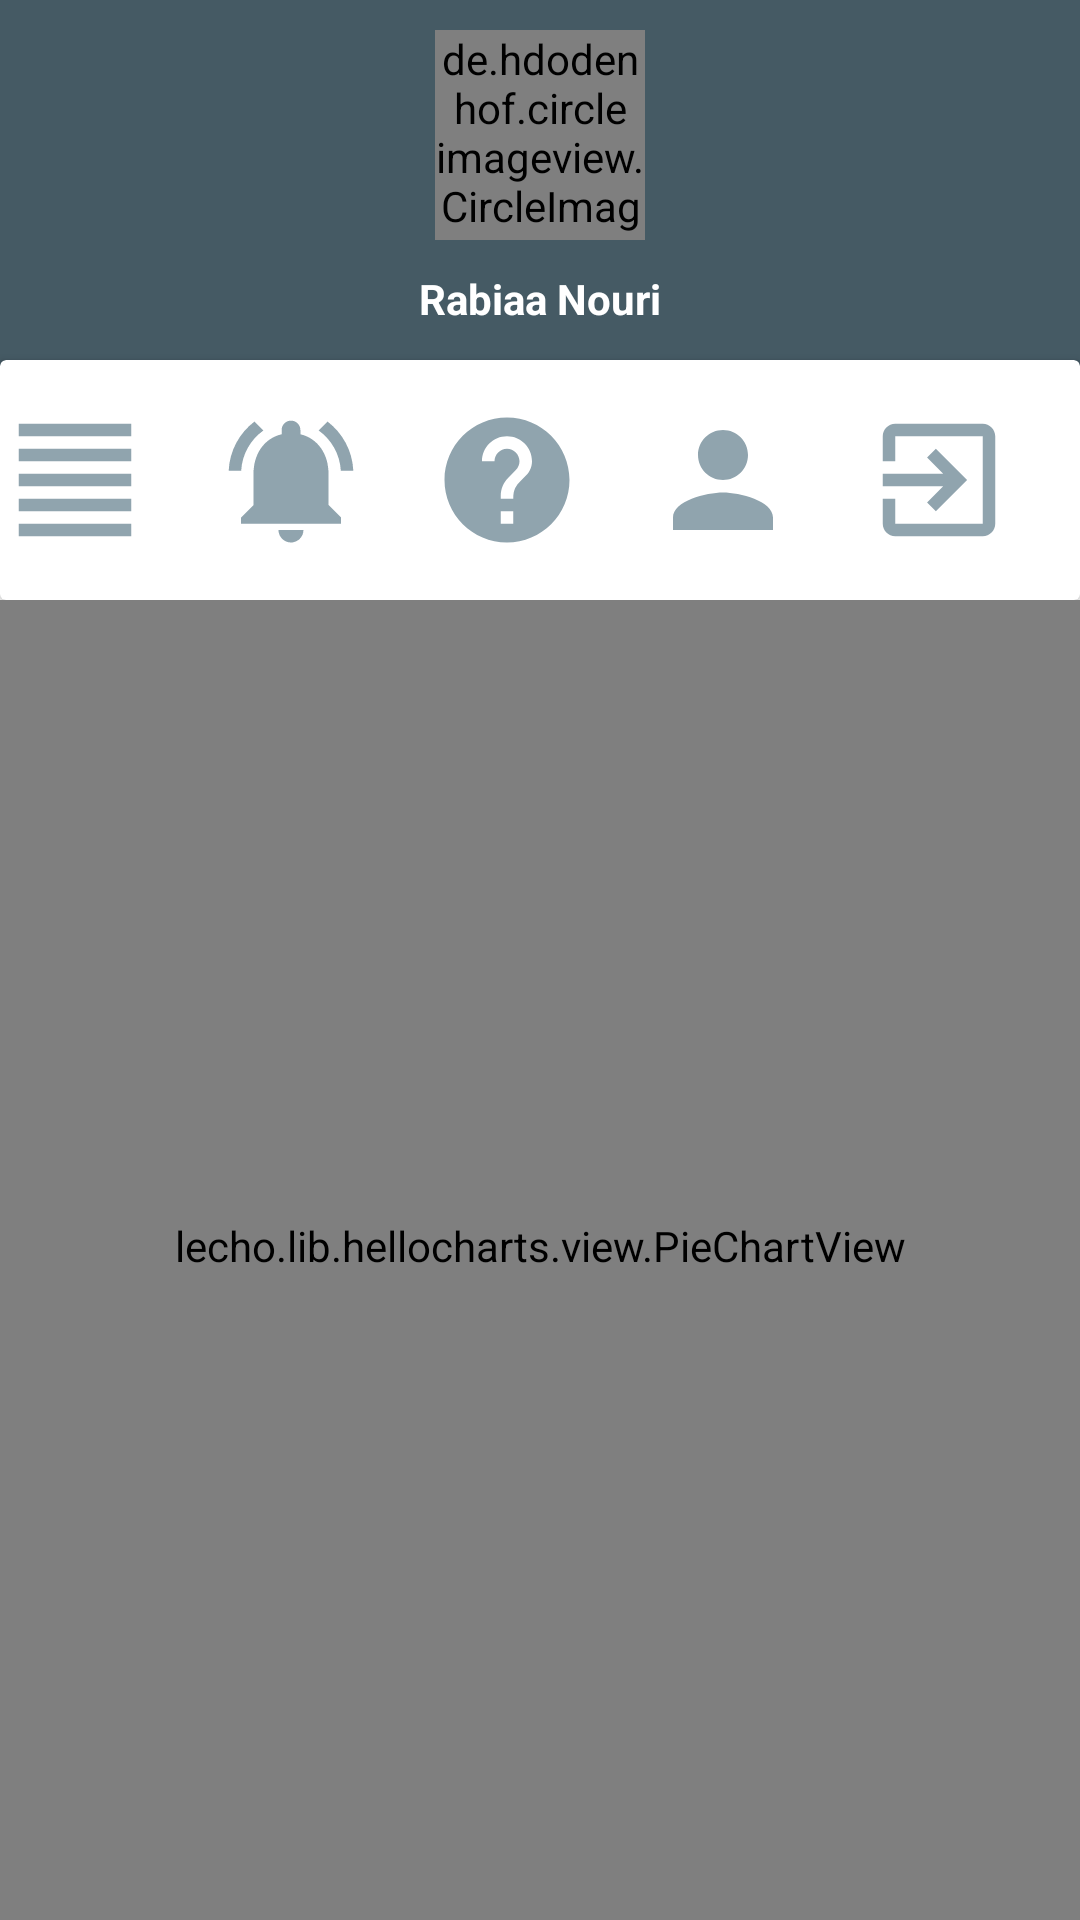

Named icons in this screenshot (1080*1920) and their bounding boxes, (x1, y1, x2, y2):
exit: (882, 423, 996, 537)
help: (444, 417, 570, 543)
menus: (18, 423, 132, 537)
notifications: (228, 420, 354, 543)
person: (673, 430, 773, 530)
